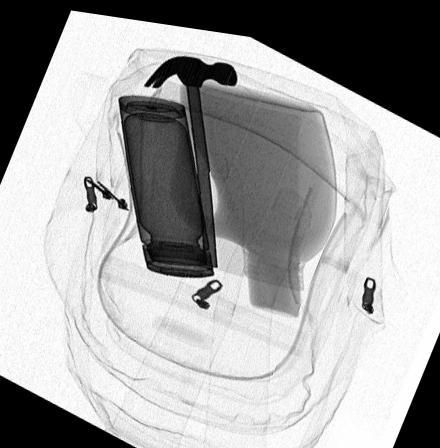Hammer: (142, 49, 236, 261)
